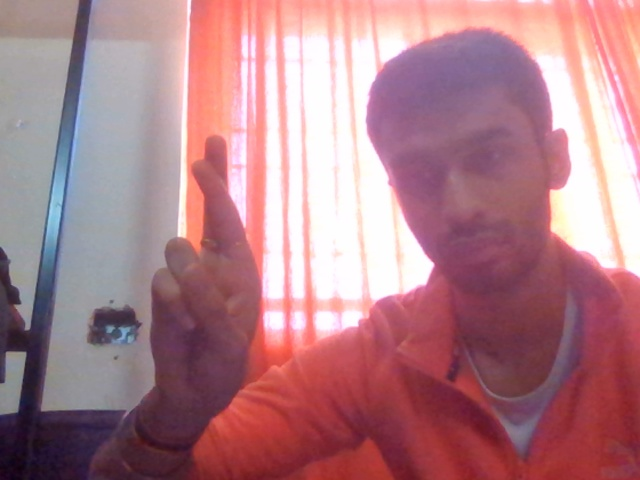R: (113, 124, 292, 435)
